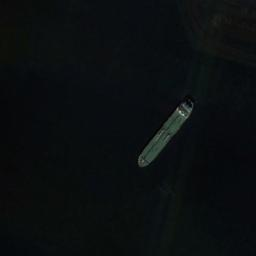boat: (137, 97, 196, 168)
